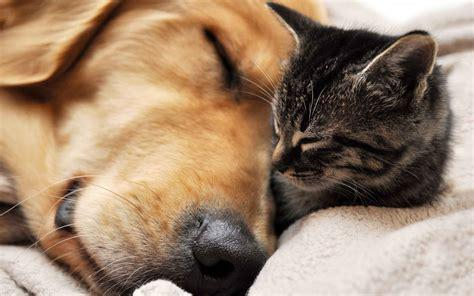cat: (268, 1, 451, 206)
dog: (1, 1, 321, 296)
